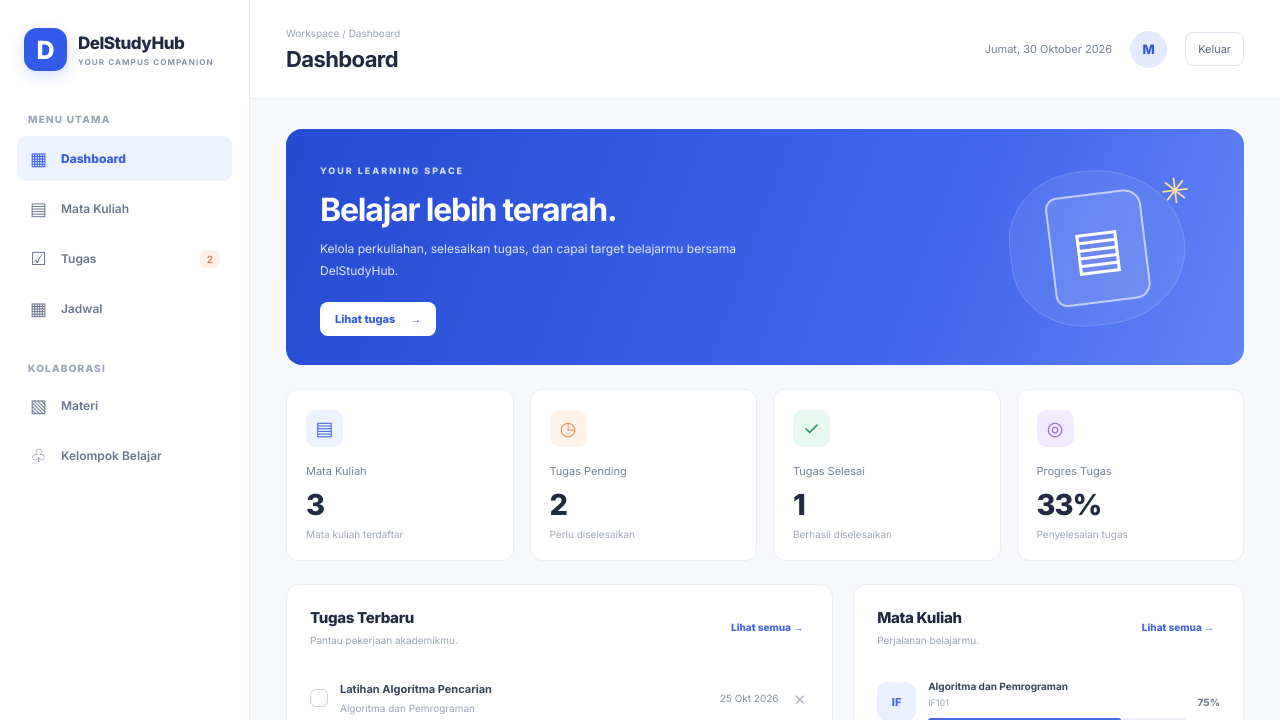
Pengujian DelStudyHub › menambahkan jadwal kuliah baru
This screenshot has width=1280, height=720.
Click the button "▦ Jadwal". click: [124, 308]
box: [17, 286, 232, 331]
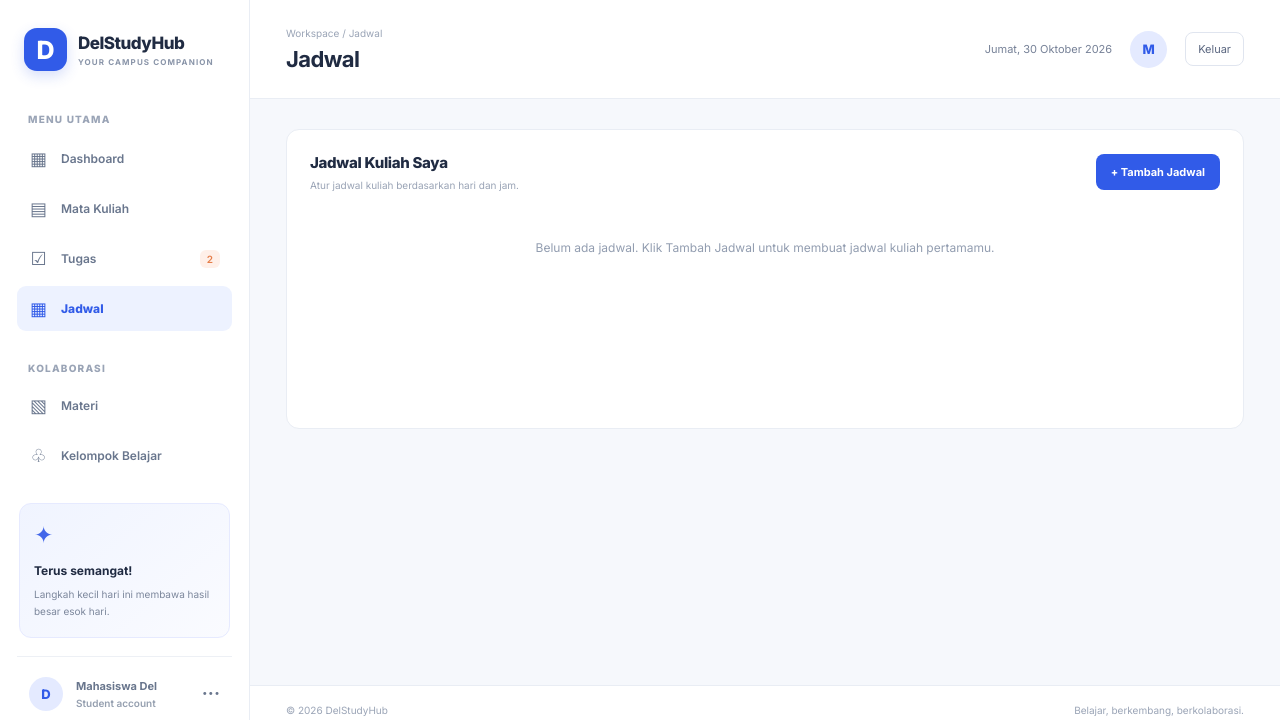
Click the button "+ Tambah Jadwal". click: [1158, 172]
box: [1096, 154, 1220, 190]
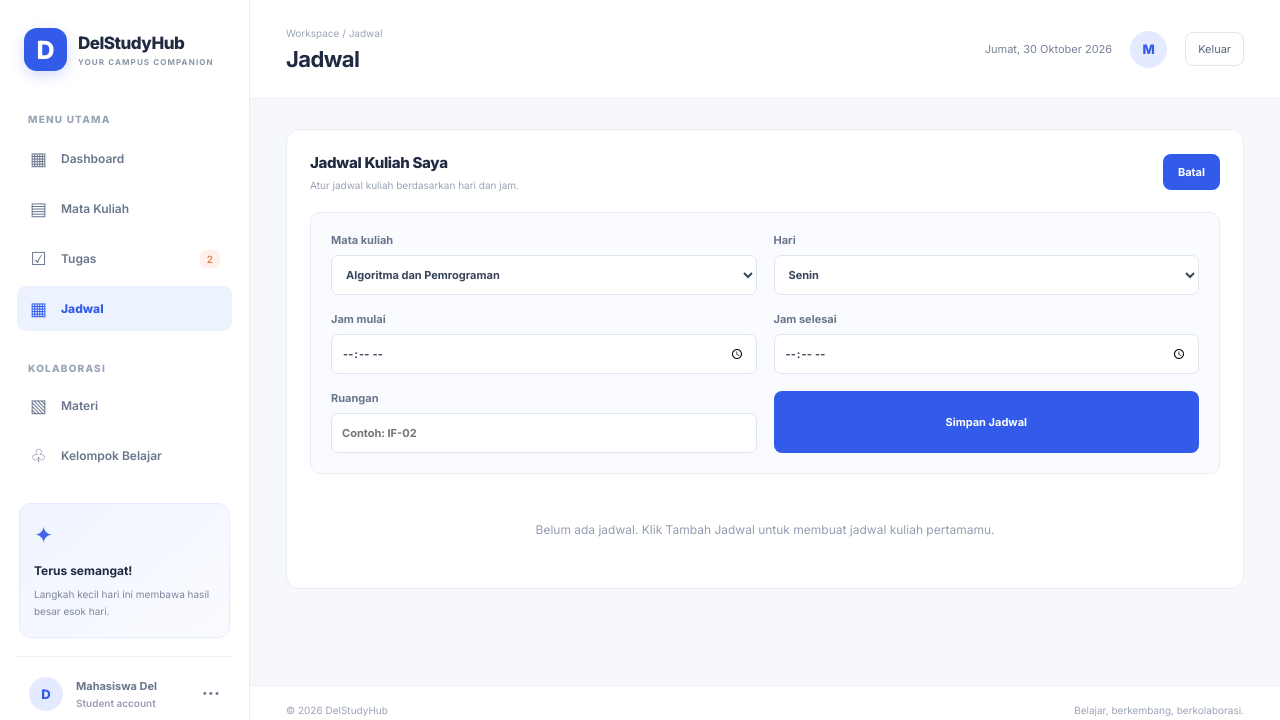
Type "08:00" into the time field labelled "Jam mulai". click: [544, 354]
box: [331, 334, 756, 374]
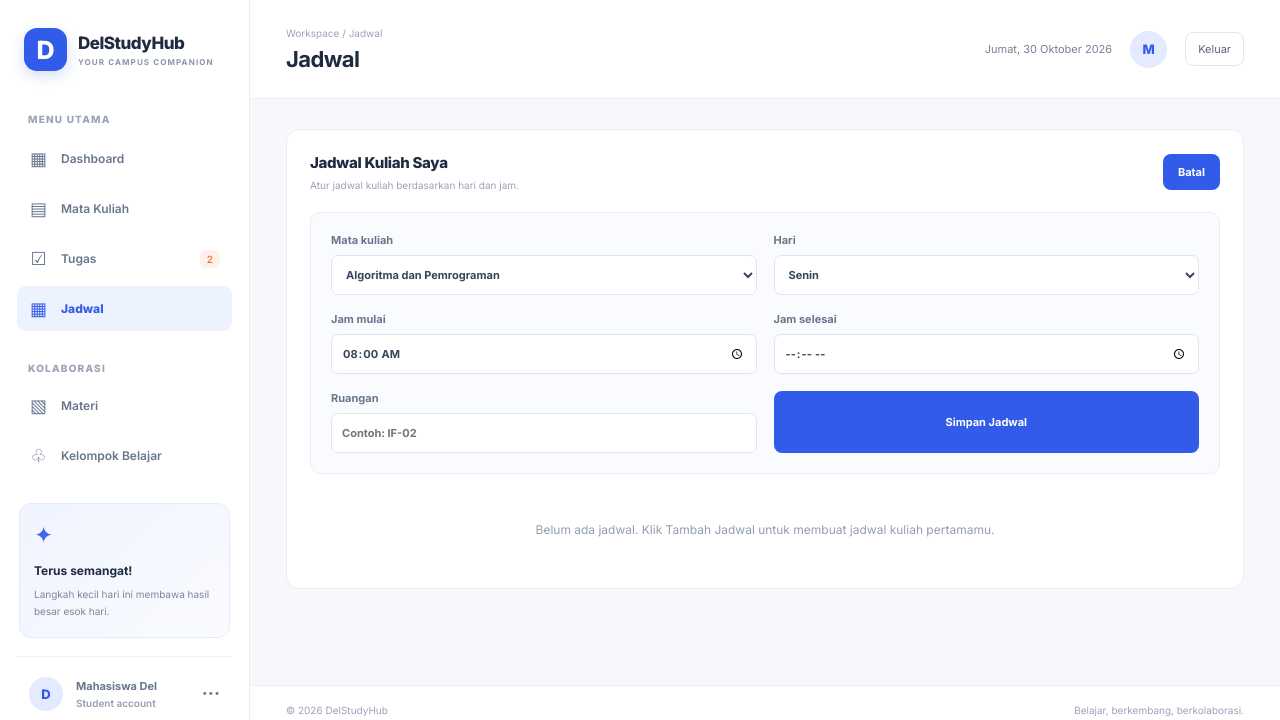
Type "10:00" into the time field labelled "Jam selesai". click: [986, 354]
box: [774, 334, 1199, 374]
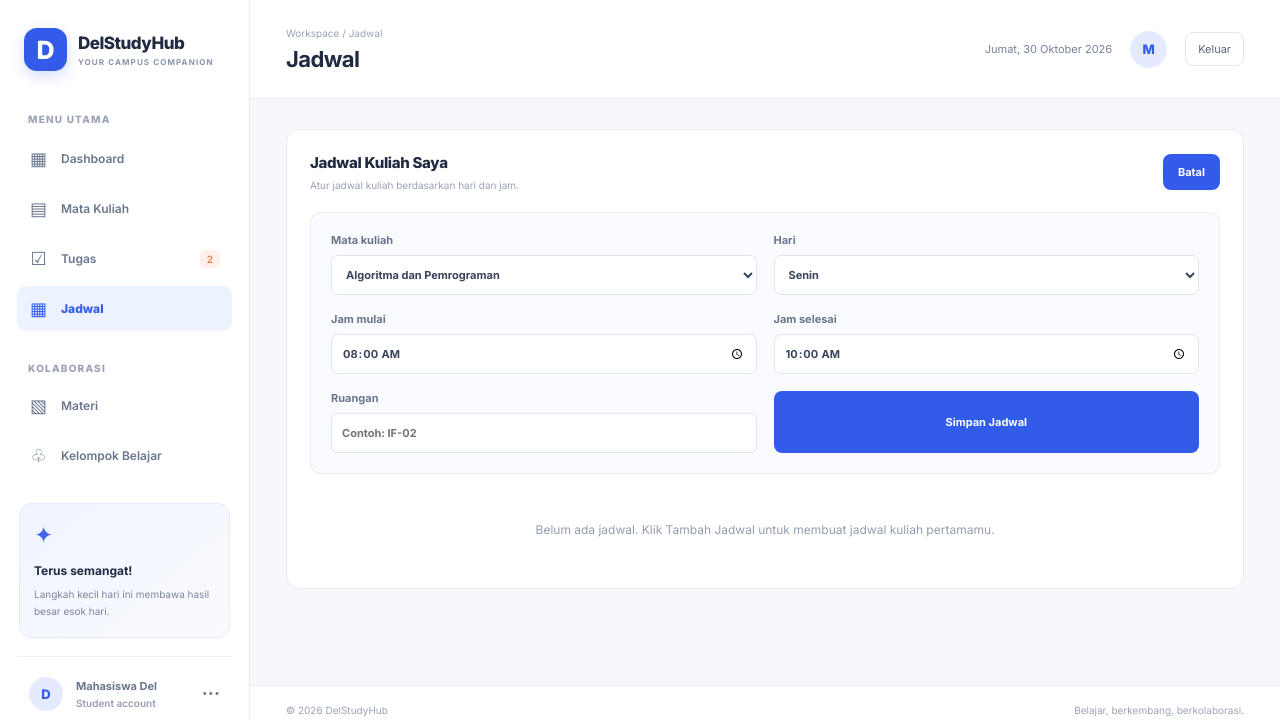
Type "IF-01" into the field labelled "Ruangan". click: [544, 433]
box: [331, 413, 756, 453]
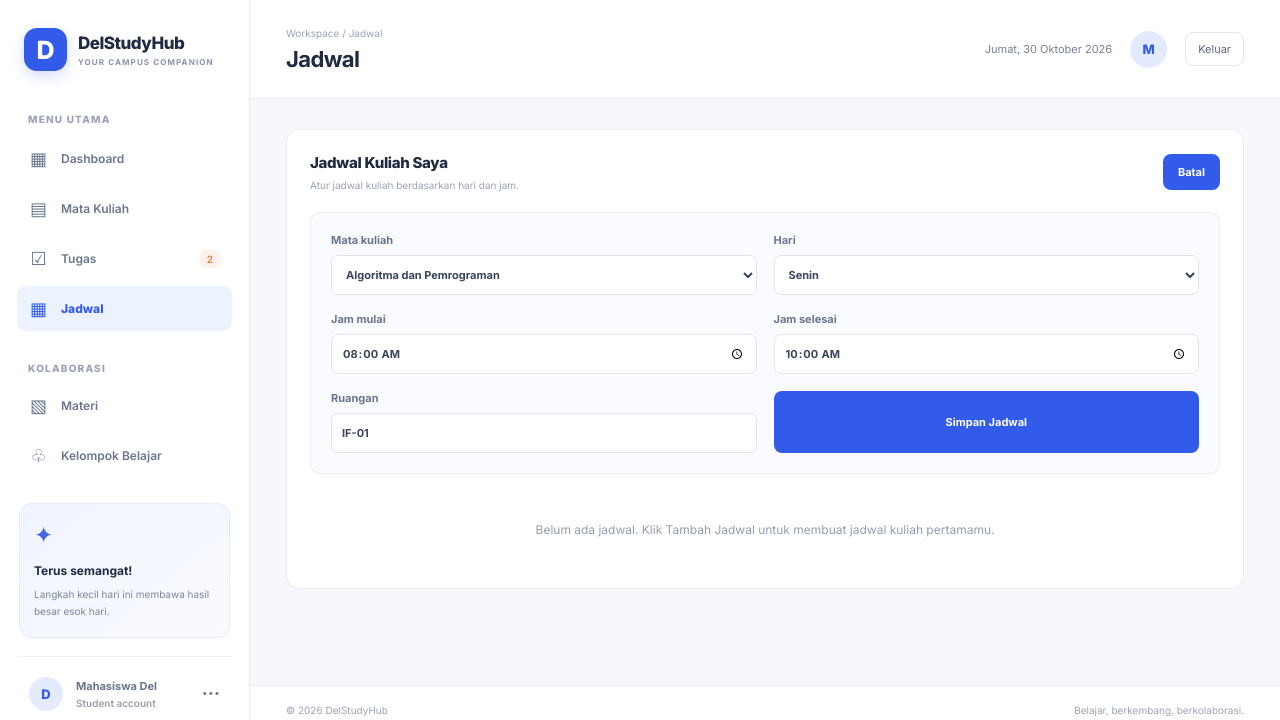
Click the button "Simpan Jadwal". click: [986, 422]
box: [774, 391, 1199, 453]
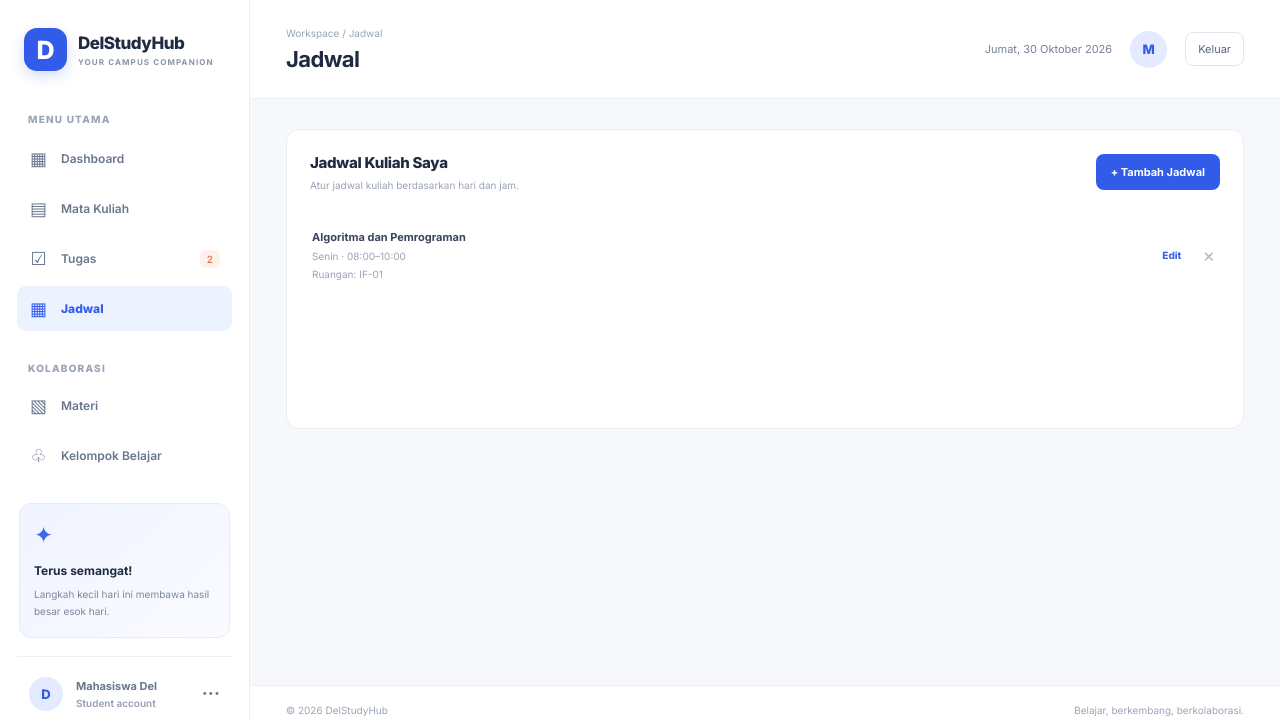
Check: the text "Ruangan: IF-01" is shown, box [312, 268, 383, 280]
